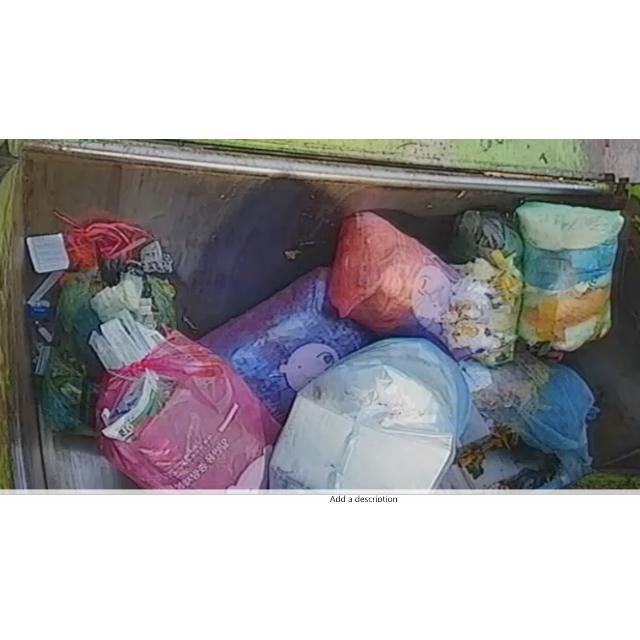general_trashbag: (41, 263, 176, 433), (516, 200, 624, 350)
other_trashbag: (90, 308, 280, 488), (270, 338, 470, 489), (199, 267, 370, 422), (328, 210, 459, 342), (460, 348, 599, 464), (442, 249, 522, 366)
